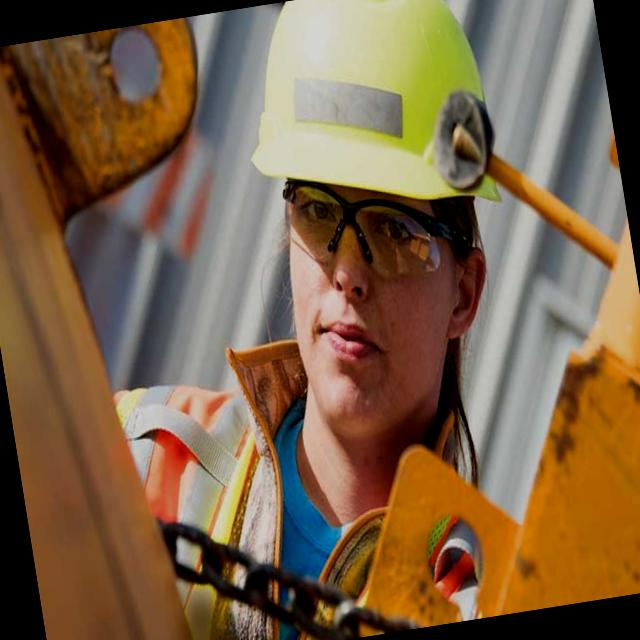goggles: (277, 143, 493, 312)
helmet: (226, 0, 539, 222)
vest: (106, 334, 480, 640)
